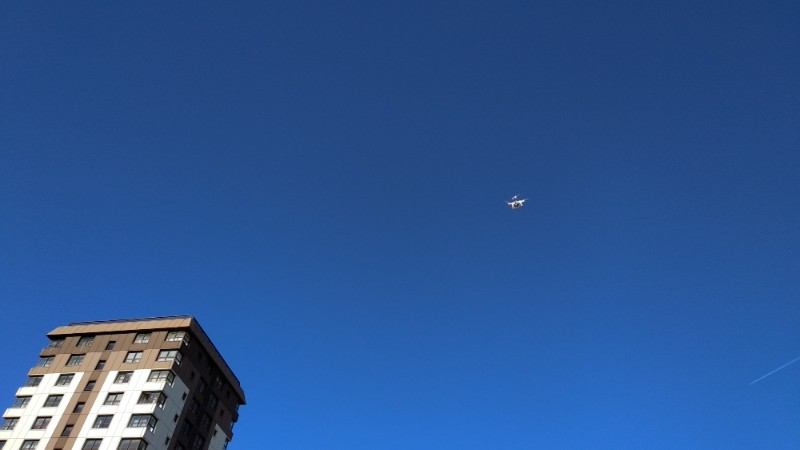drone: (505, 192, 529, 213)
